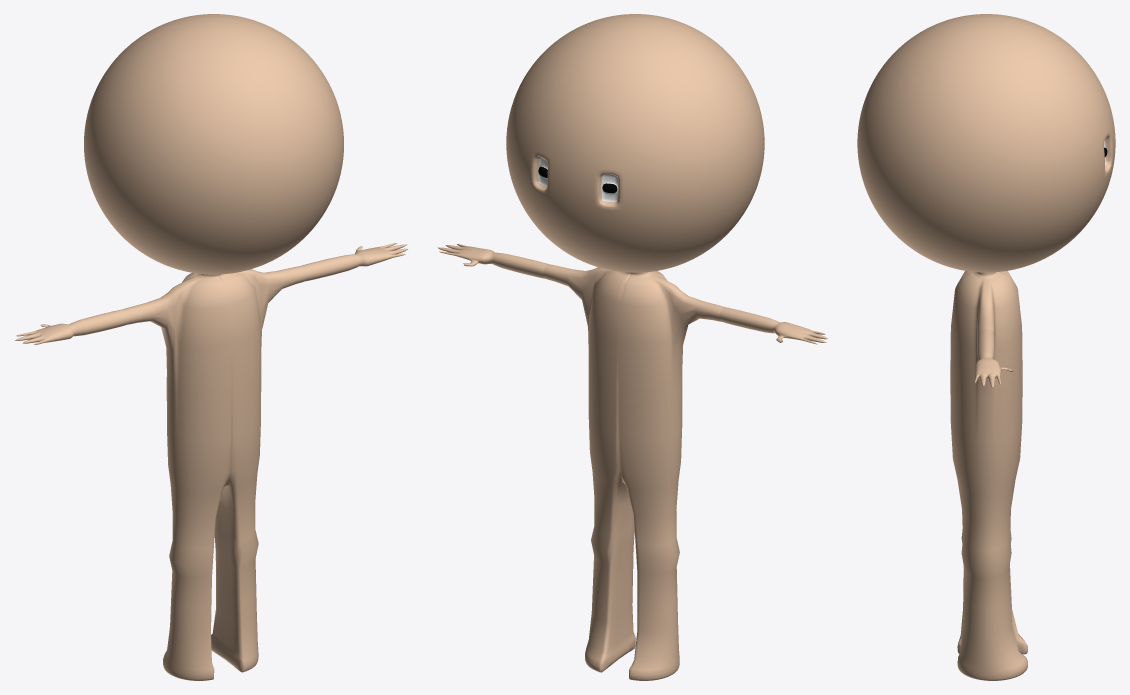
Rendered from deneme3.fbx.
3 views of the same model, side by side, from view 1: azimuth 30°, elevation 25°; view 2: azimuth 150°, elevation 25°; view 3: azimuth 270°, elevation 25° (orthographic).
Visible parts, largest first — view 1: Sphere; view 2: Sphere; view 3: Sphere.
Part boxes in pixels (x1,y1,x2,y2): Sphere: (15,14,407,680); Sphere: (437,14,828,680); Sphere: (857,14,1115,680).
Size of the model in its own units: 347 by 541 by 199.
